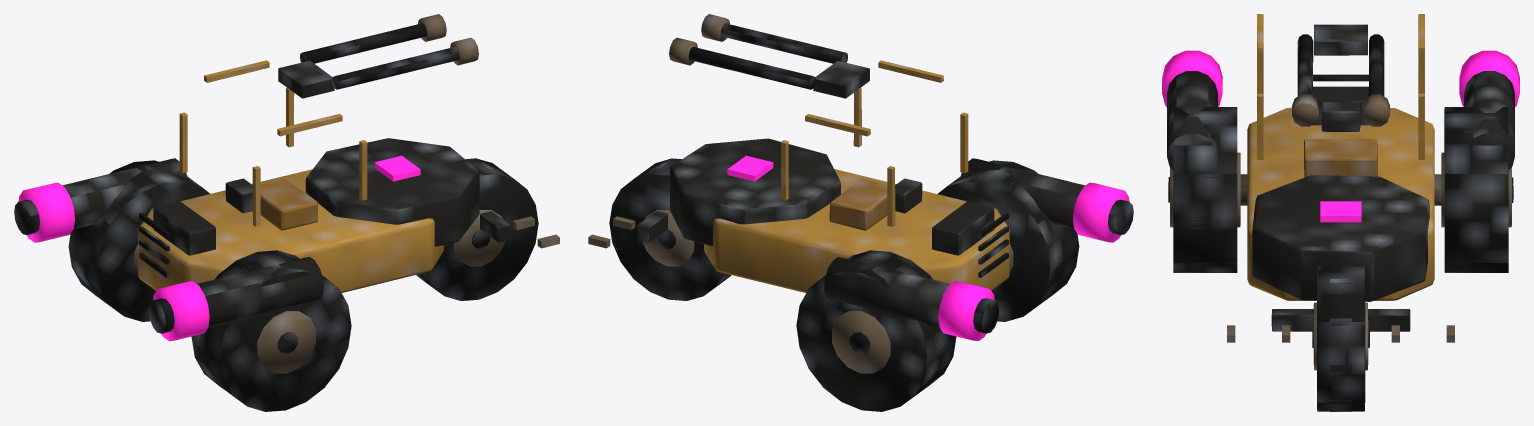
The model's file is raider_trike.glb.
3 views of the same model, side by side, from view 1: azimuth 30°, elevation 25°; view 2: azimuth 150°, elevation 25°; view 3: azimuth 270°, elevation 25° (orthographic). The views are drawn at different scales.
Parts seen in each view (by area): view 1: Sandwar3D; view 2: Sandwar3D; view 3: Sandwar3D.
Boxes of the visible parts, <box> form: Sandwar3D: <box>14,14,559,411</box>; Sandwar3D: <box>588,14,1133,411</box>; Sandwar3D: <box>1162,14,1519,411</box>.
Bounding box in the file's own units: 1.73 × 1.01 × 1.11.
Materials: 9 (8 with a texture image).
